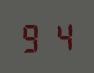four: (47, 19, 74, 52)
nine: (19, 20, 46, 53)
